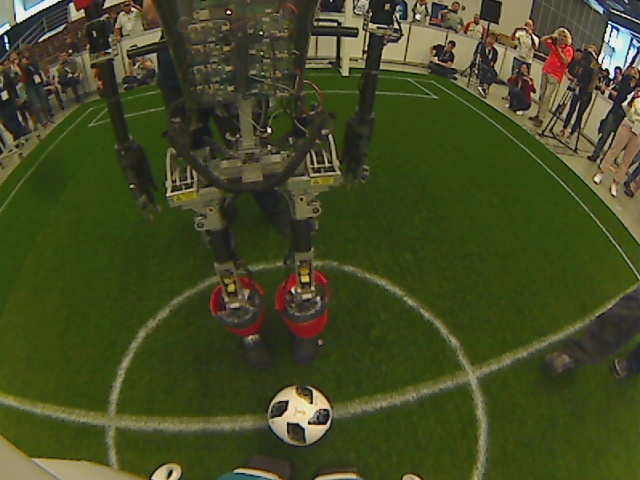ball: (264, 379, 337, 450)
